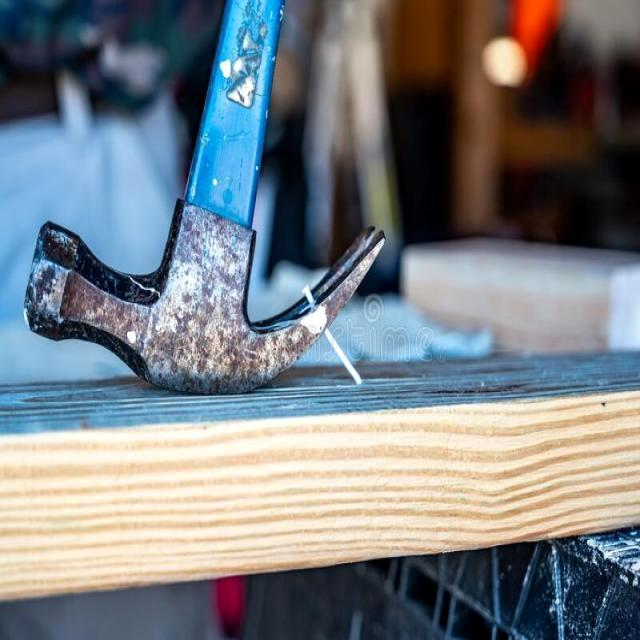hammer: (18, 0, 396, 404)
